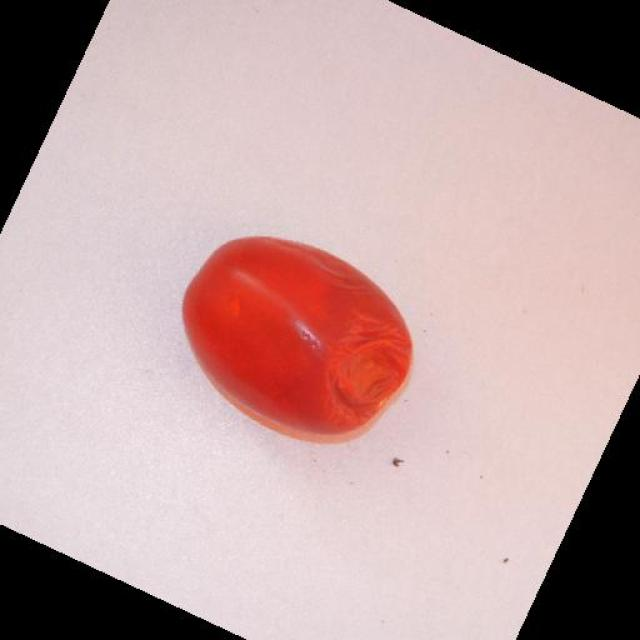Stale_tomato: (249, 248, 421, 464)
